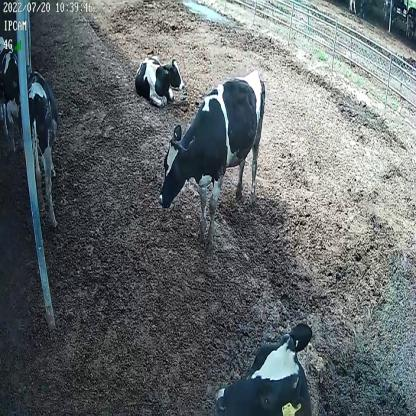cow: (158, 70, 267, 252), (17, 69, 60, 229), (135, 50, 187, 106)
